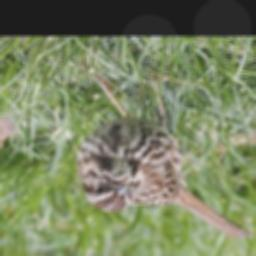Sparrow: (73, 86, 255, 242)
